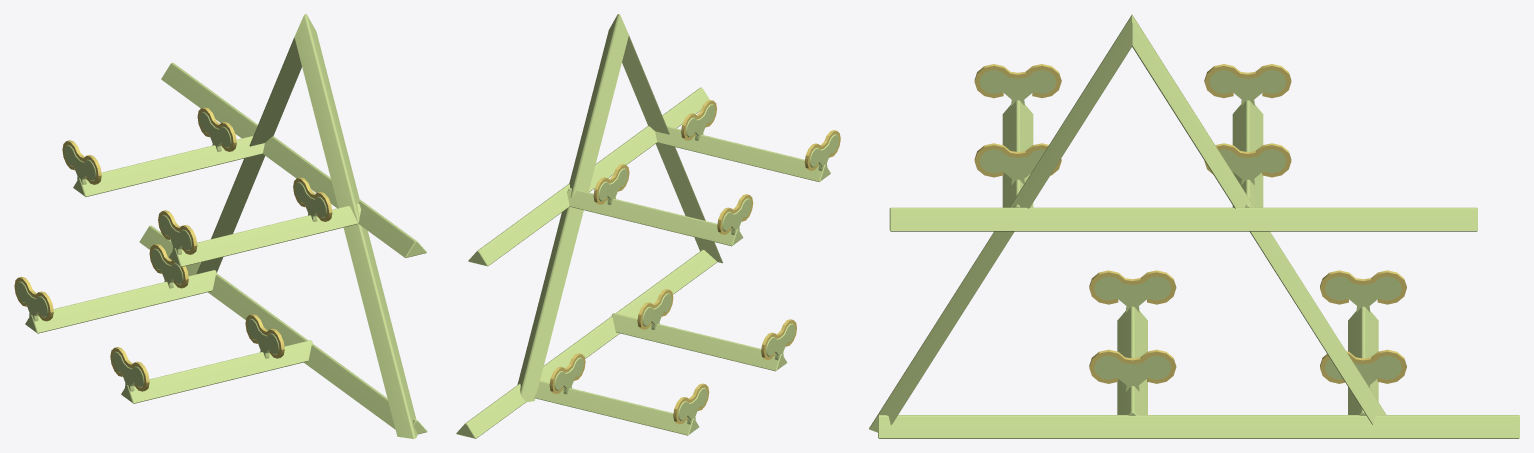
File: shelfD.fbx
3 renders of one model, left to right at view 1: azimuth 30°, elevation 25°; view 2: azimuth 150°, elevation 25°; view 3: azimuth 270°, elevation 25°, orthographic. The views are drawn at different scales.
Visible parts, largest first — view 1: shelfD; view 2: shelfD; view 3: shelfD.
Part boxes in pixels (x1,y1,x2,y2): shelfD: (14, 14, 427, 438); shelfD: (456, 14, 840, 438); shelfD: (869, 14, 1519, 438).
Bounding box in the file's own units: 87.3 × 144 × 205.
